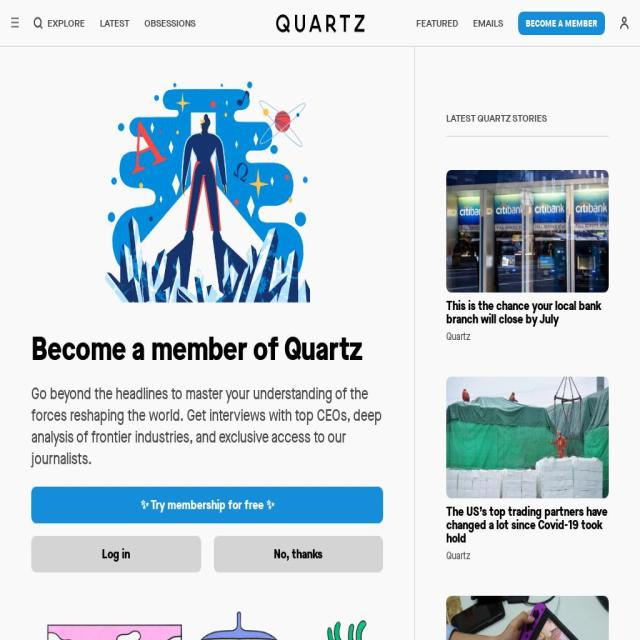button: (82, 80, 332, 302), (31, 331, 383, 470), (446, 376, 609, 563), (446, 170, 609, 343), (31, 486, 383, 523), (446, 596, 609, 640), (31, 535, 201, 573), (213, 535, 383, 573), (510, 0, 612, 46), (27, 0, 92, 46), (276, 13, 364, 32)
heading: (31, 331, 383, 367), (446, 505, 609, 546), (446, 298, 609, 326), (446, 112, 547, 125)
image: (82, 80, 332, 302), (446, 376, 609, 499), (446, 170, 609, 292), (31, 605, 383, 640), (446, 596, 609, 640), (276, 13, 364, 32), (620, 17, 629, 29), (11, 16, 19, 28), (34, 17, 42, 29)
link: (31, 382, 383, 470), (144, 0, 196, 46), (416, 0, 458, 46), (473, 0, 503, 46), (100, 0, 129, 46)
text: (148, 495, 266, 513), (518, 11, 605, 35), (274, 544, 323, 563), (446, 328, 471, 344), (446, 548, 471, 564), (140, 495, 149, 513), (266, 495, 274, 513)
